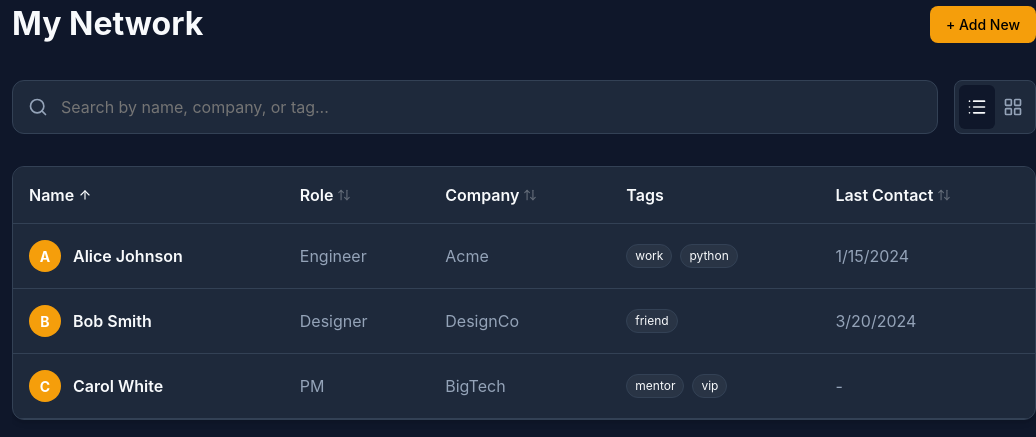
it: ConnectionList › filters connections by company search
Type "DesignCo" into the field with placeholder "Search by name, company, or tag..." at (475, 107), box [12,80,938,134]
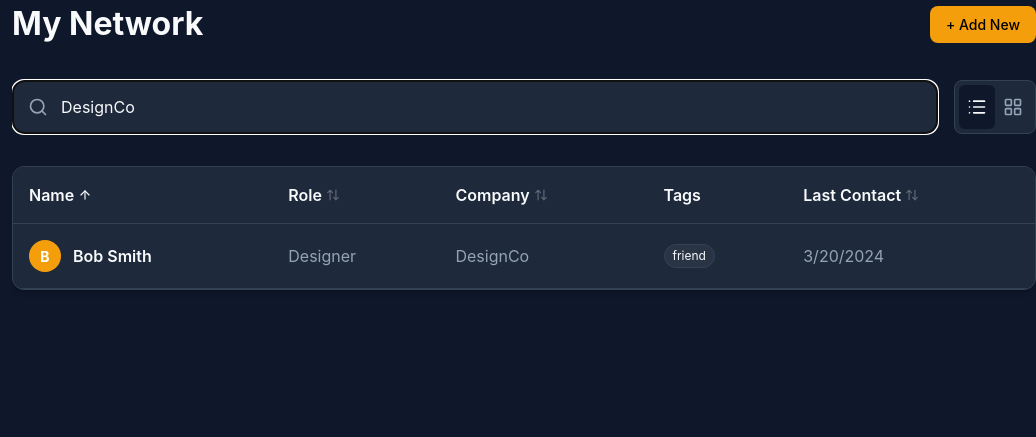
Check: the link "B Bob Smith" is shown, box [29,240,152,272]
Check: the link "Alice Johnson" is gone
